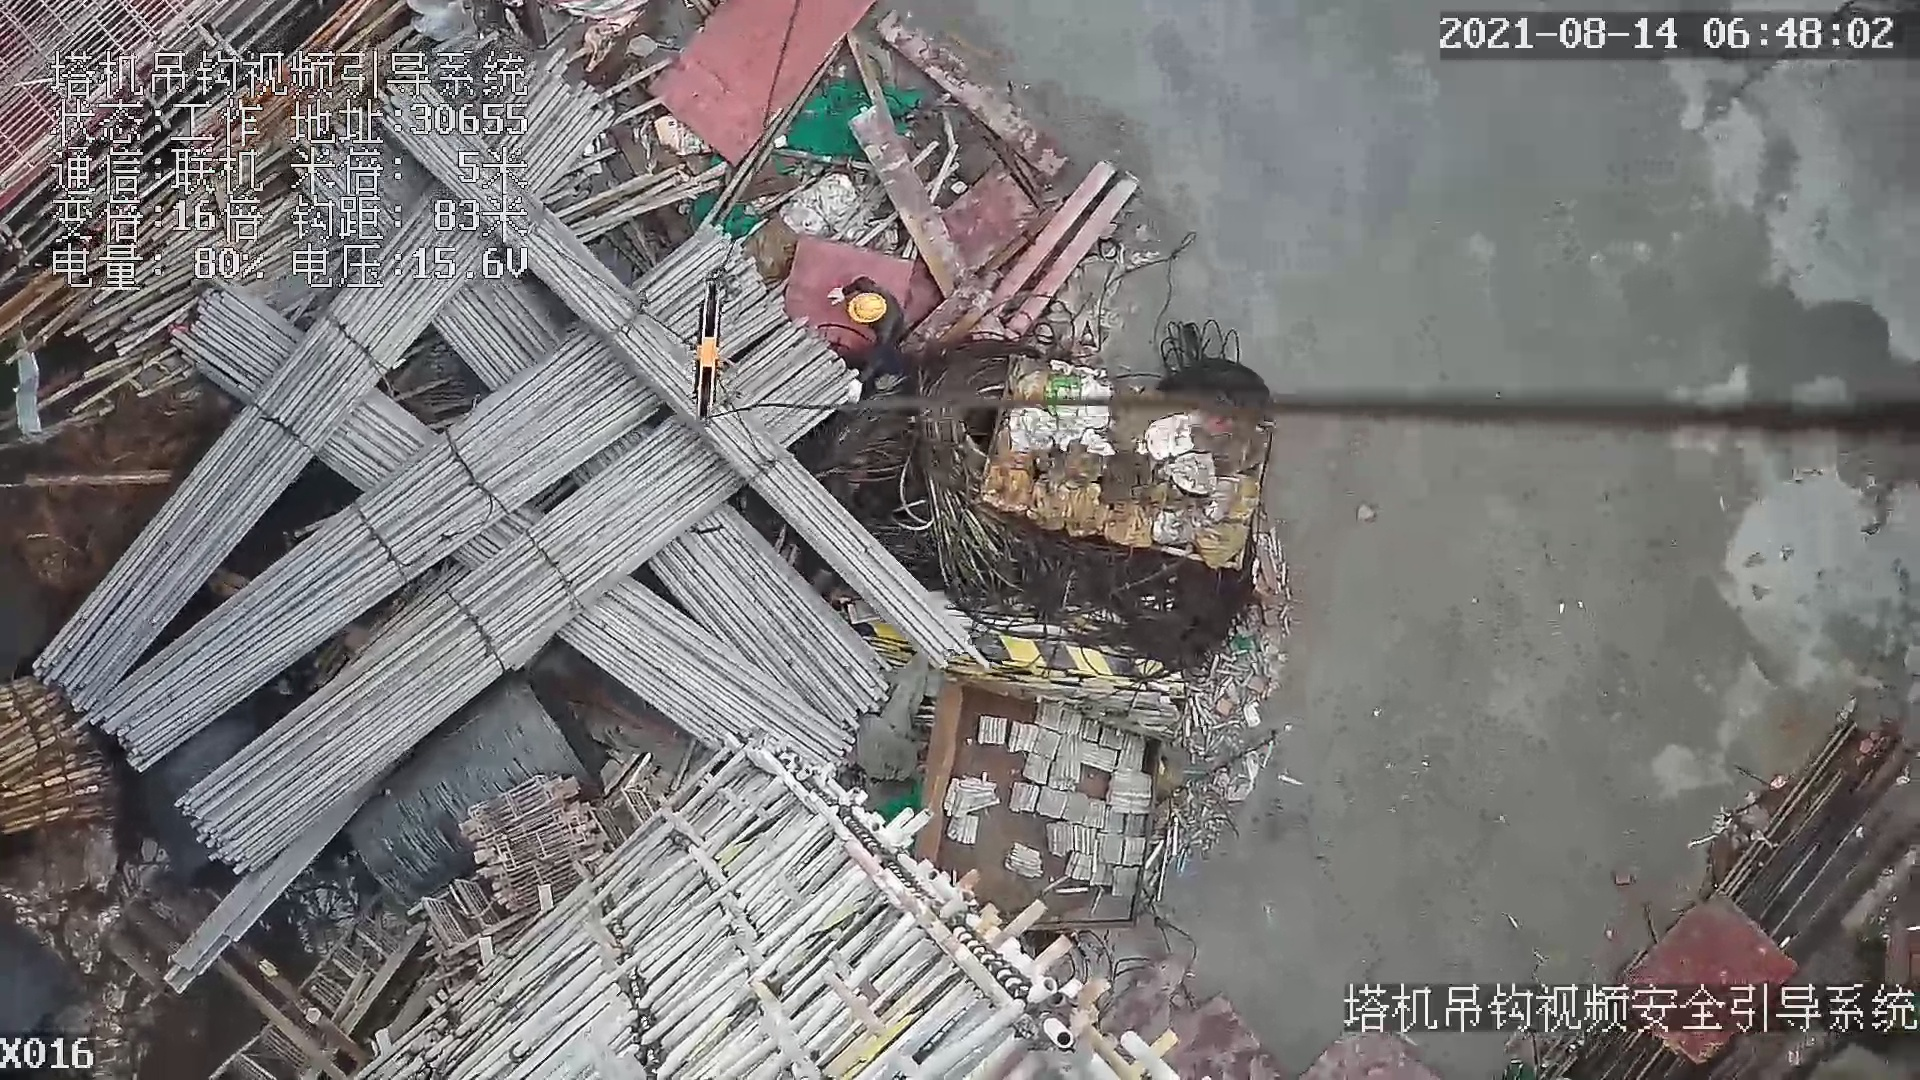board: (647, 1, 886, 171)
helmet: (845, 293, 889, 324)
hook: (686, 280, 735, 427)
person: (823, 267, 910, 404)
scaffold: (1, 684, 129, 827)
